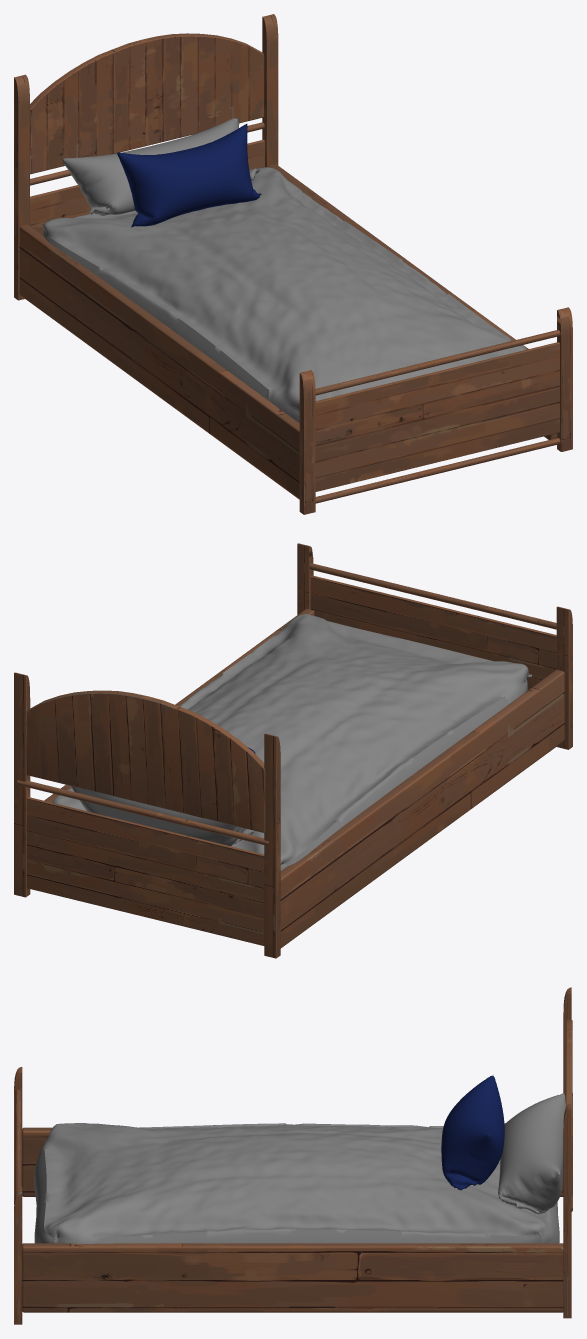
The model's file is Cama Niño.fbx.
The picture shows the model from 3 angles, top to bottom: view 1: azimuth 30°, elevation 25°; view 2: azimuth 150°, elevation 25°; view 3: azimuth 270°, elevation 25°; orthographic projection. The views are drawn at different scales.
Visible parts, largest first — view 1: kitty bed; view 2: kitty bed; view 3: kitty bed.
Part boxes in pixels (box(x1,y1,x2,y2)): kitty bed: box(14, 14, 572, 514); kitty bed: box(14, 543, 572, 958); kitty bed: box(14, 987, 572, 1324).
Bounding box in the file's own units: 350 × 286 × 660.
Materials: 5 (1 with a texture image).
